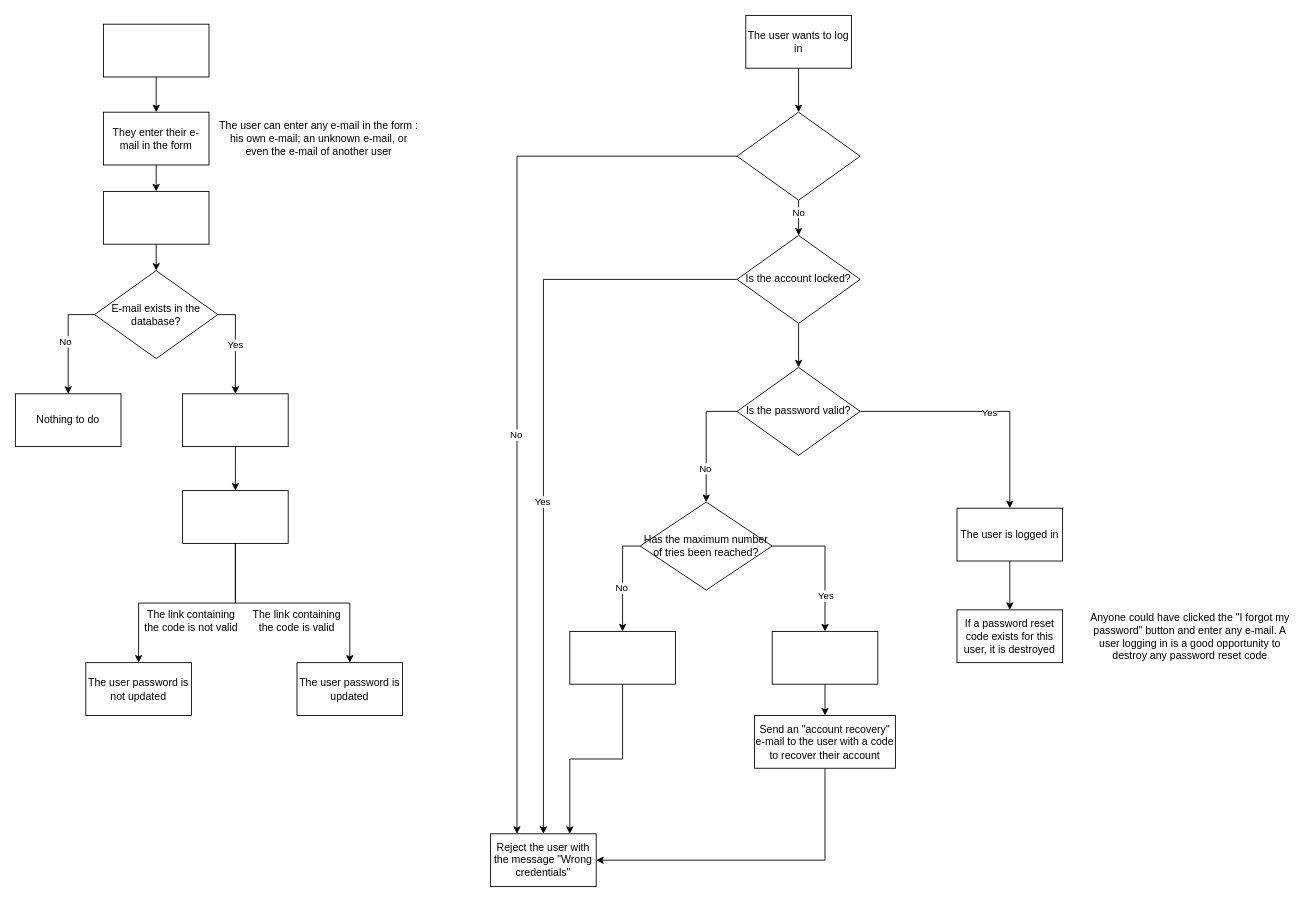
Image size: 1307x902. Some labels were removed from this diagram. The centre of each missing label's shape, as x and y in pixels:
A user clicks the "I forgot my password button": point (156, 50)
Increase the number of attempts: point (622, 657)
Is the e-mail valid?: point (798, 155)
Lock the user account: point (824, 657)
Send a "password reset" email to the user with a code to reset their password: point (235, 420)
The user uses the code to set him-self a new password: point (235, 516)
We thank the user for their request (whatever the e-mail): point (156, 217)
